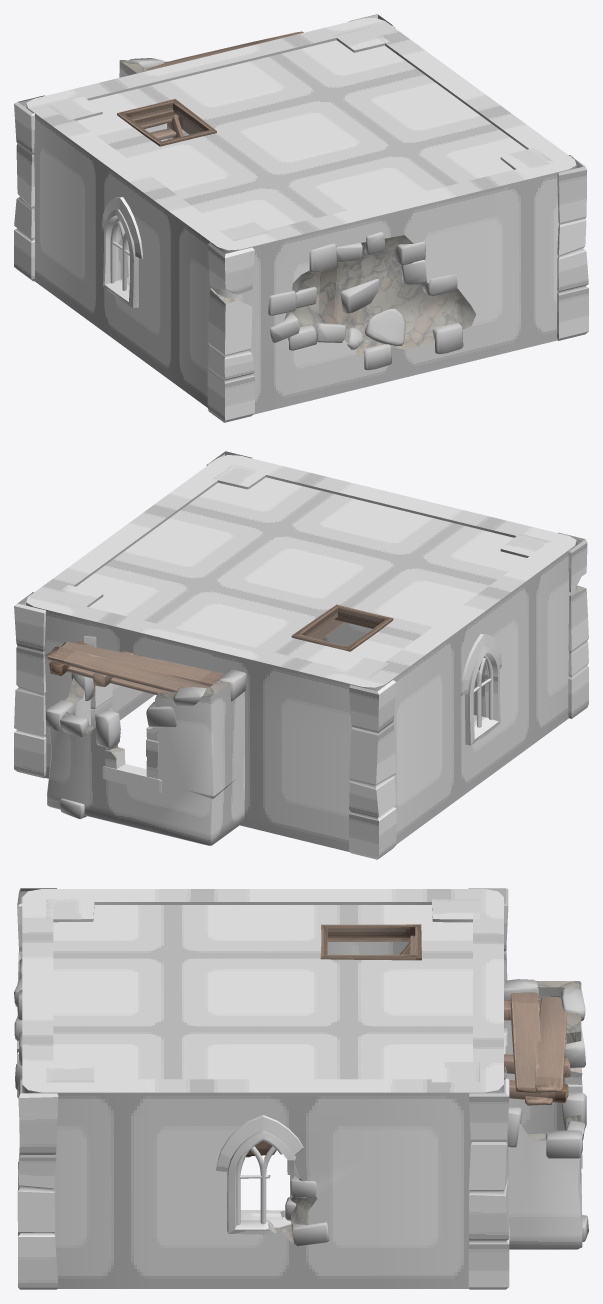
The model's file is SM_TowerE_Ruined_02.fbx.
3 views of the same model, one above another, from view 1: azimuth 30°, elevation 25°; view 2: azimuth 150°, elevation 25°; view 3: azimuth 270°, elevation 25° (orthographic). The views are drawn at different scales.
Visible parts, largest first — view 1: SM_TowerE_Ruined_02_LOD0; view 2: SM_TowerE_Ruined_02_LOD0; view 3: SM_TowerE_Ruined_02_LOD0.
Part boxes in pixels (left/top/right/bottom): SM_TowerE_Ruined_02_LOD0: left=14, top=14, right=588, bottom=422; SM_TowerE_Ruined_02_LOD0: left=14, top=451, right=588, bottom=859; SM_TowerE_Ruined_02_LOD0: left=14, top=888, right=588, bottom=1289.
Bounding box in the file's own units: 1037 × 1194 × 463.
